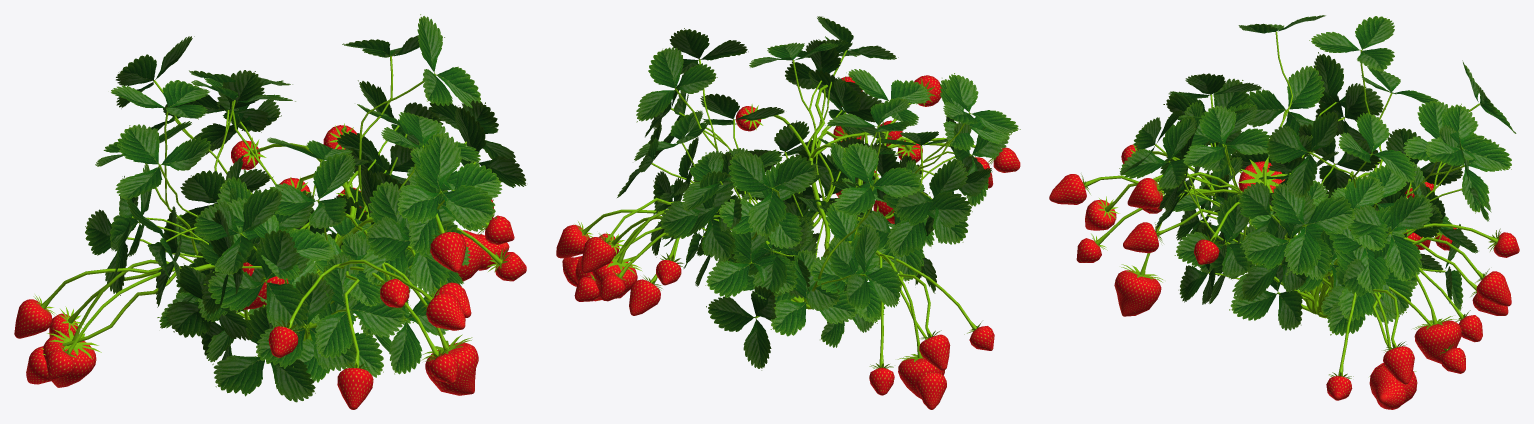
Rendered from strawberry_plant_04.obj.
The picture shows the model from 3 angles, left to right: view 1: azimuth 30°, elevation 25°; view 2: azimuth 150°, elevation 25°; view 3: azimuth 270°, elevation 25°; orthographic projection. The views are drawn at different scales.
Parts seen in each view (by area): view 1: Strawberry_004; view 2: Strawberry_004; view 3: Strawberry_004.
Boxes of the visible parts, x1,y1,x2,y2 form: Strawberry_004: (14,14,526,409); Strawberry_004: (556,16,1020,409); Strawberry_004: (1049,15,1519,409).
Bounding box in the file's own units: 0.5191 × 0.3362 × 0.5094.
Materials: 5 (5 with a texture image).
